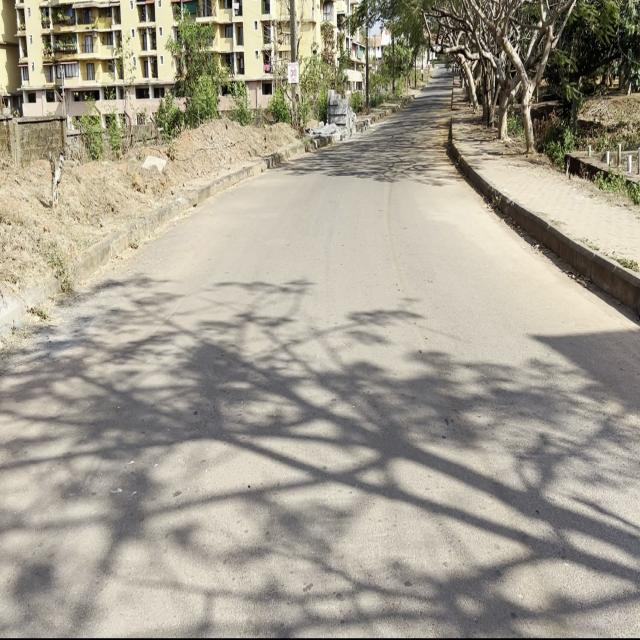Road: (0, 70, 640, 639)
